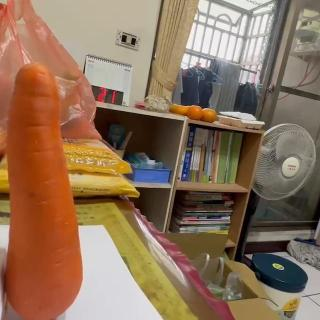carrot: (4, 62, 85, 320)
